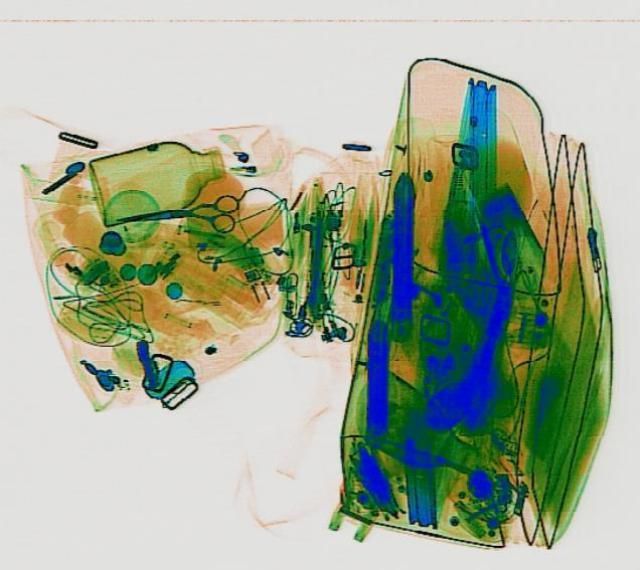Scissors: (116, 194, 238, 235)
